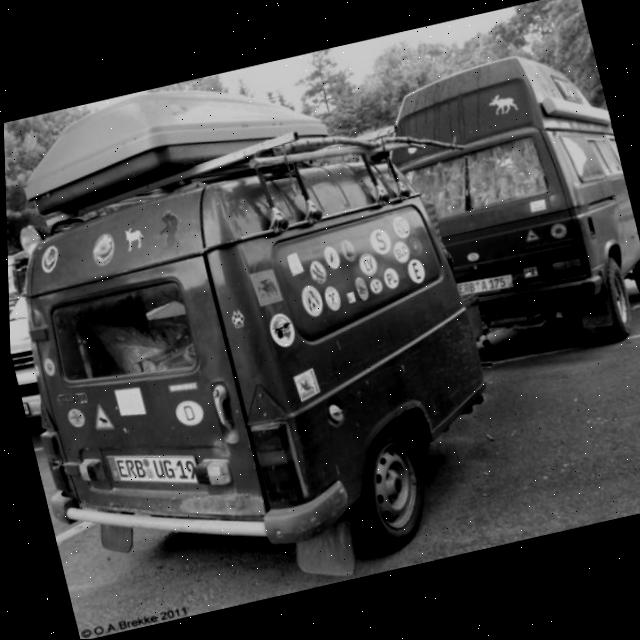license-plates: (107, 456, 198, 483)
